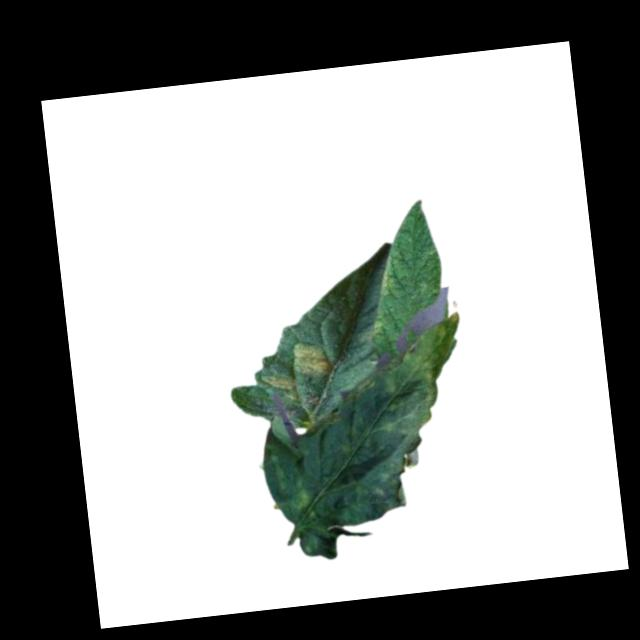Leaf_Mold: (248, 309, 492, 567), (290, 340, 331, 380), (258, 367, 301, 405), (374, 253, 399, 298)
